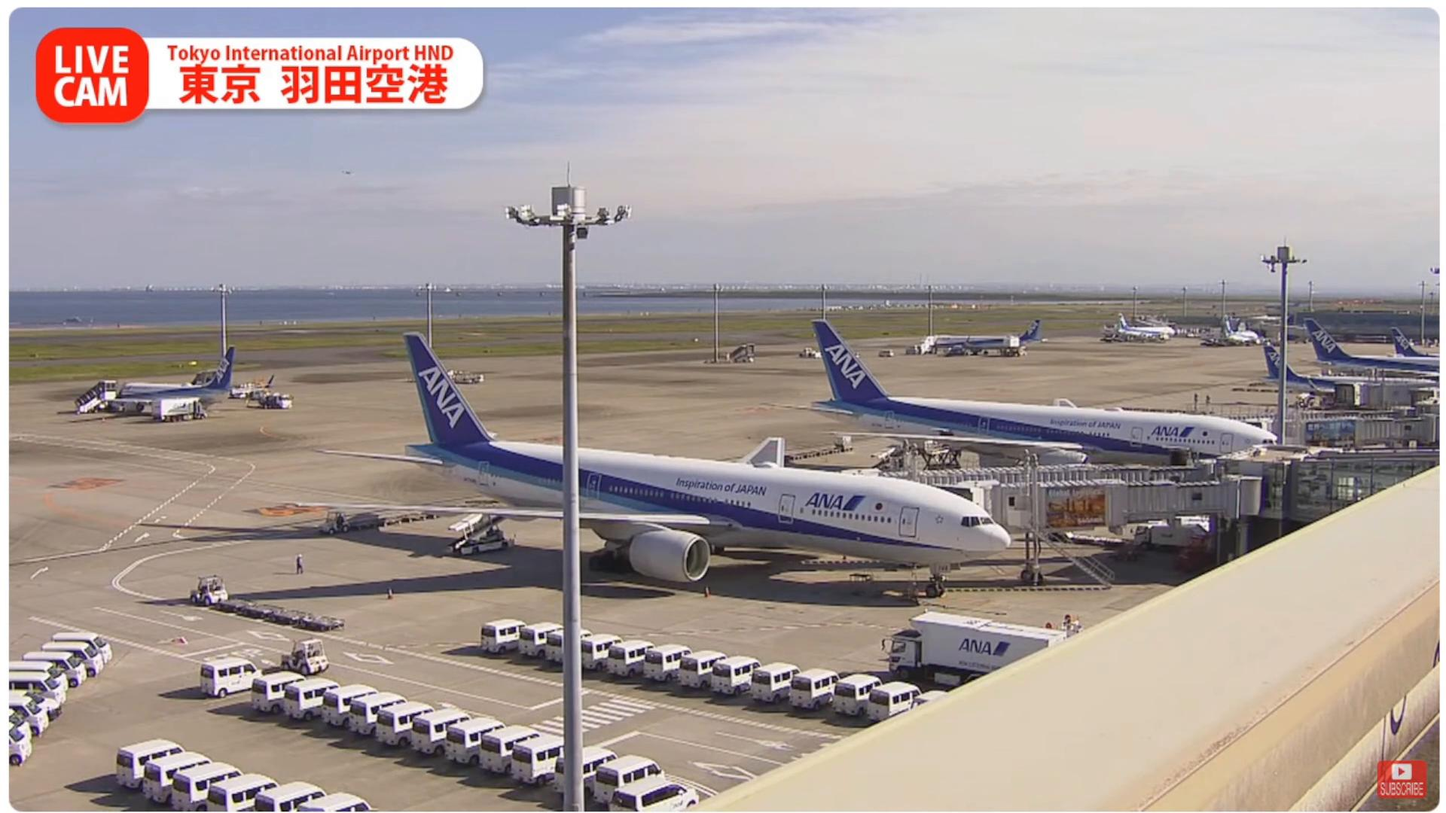Aerobridge: (956, 480, 1243, 535), (885, 461, 1213, 481)
Airplane: (404, 330, 1007, 584)
Catering: (885, 610, 1068, 685)
Dolly: (213, 595, 343, 629)
Skyloader: (438, 495, 521, 551)
Tractor: (299, 637, 343, 670), (192, 577, 222, 604)
Window: (1270, 448, 1442, 536)
